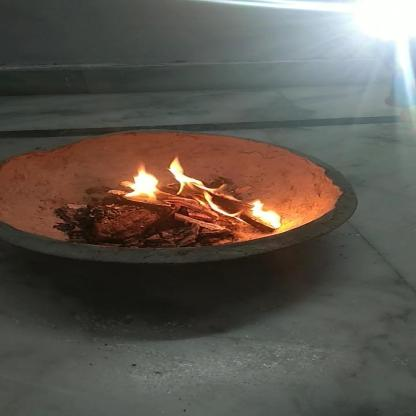fire: (158, 154, 223, 203), (114, 164, 165, 204), (244, 195, 288, 232)
